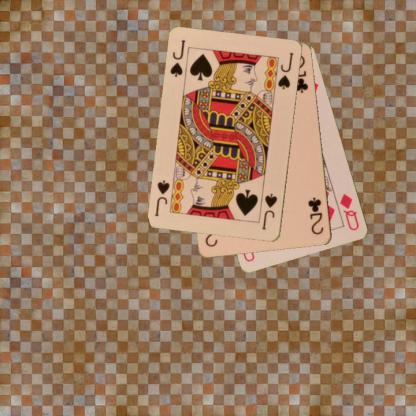2c: (306, 195, 325, 236)
Js: (259, 191, 279, 231), (168, 38, 187, 78)
Qd: (338, 192, 360, 232)
